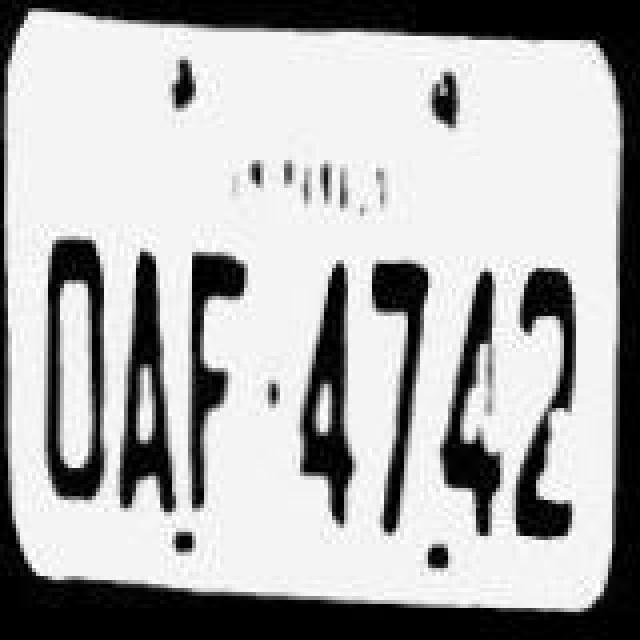2: (508, 258, 588, 550)
4: (288, 248, 368, 532), (440, 246, 512, 542)
7: (368, 244, 440, 536)
A: (114, 240, 182, 520)
F: (182, 244, 258, 528)
O: (28, 230, 116, 522)
